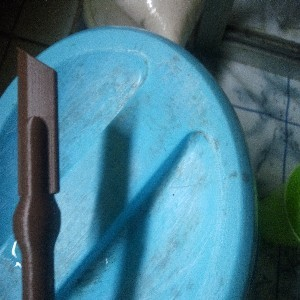cutter: (10, 44, 62, 300)
